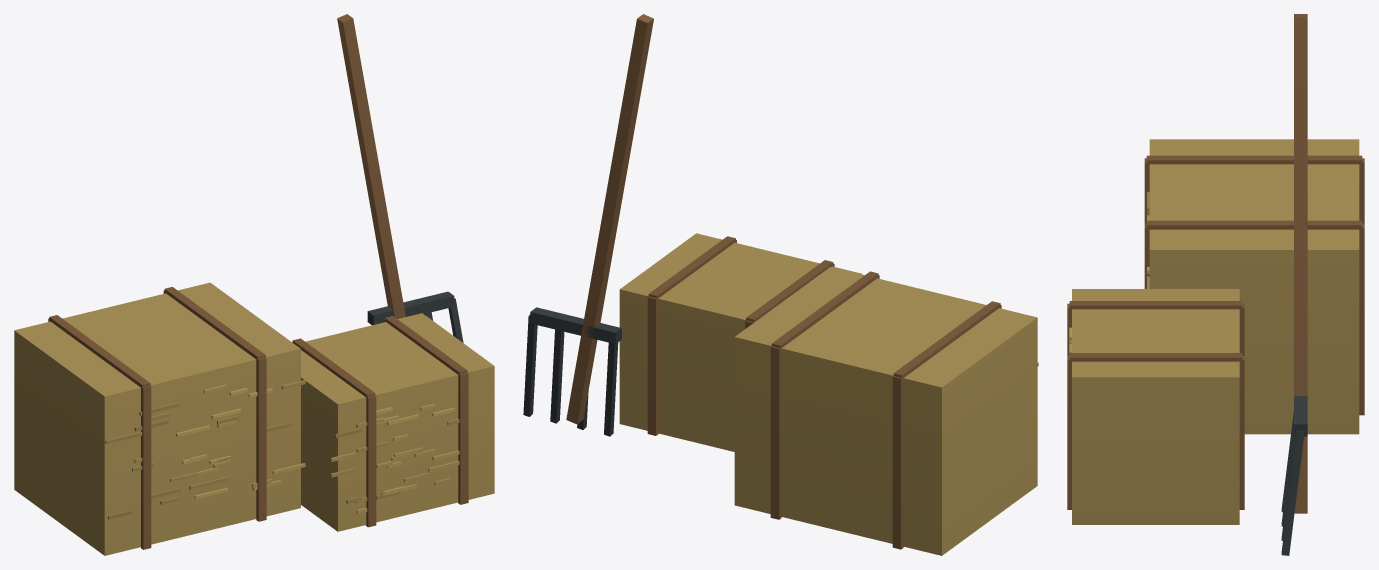
The model's file is town_haybale.glb.
3 views of the same model, side by side, from view 1: azimuth 30°, elevation 25°; view 2: azimuth 150°, elevation 25°; view 3: azimuth 270°, elevation 25° (orthographic). The views are drawn at different scales.
Visible parts, largest first — view 1: town_haybale; view 2: town_haybale; view 3: town_haybale.
Boxes of the visible parts, left/top/right/bottom form: town_haybale: left=14, top=14, right=494, bottom=555; town_haybale: left=523, top=14, right=1038, bottom=555; town_haybale: left=1067, top=14, right=1364, bottom=555.
Bounding box in the file's own units: 1.85 × 1.73 × 0.9644.
